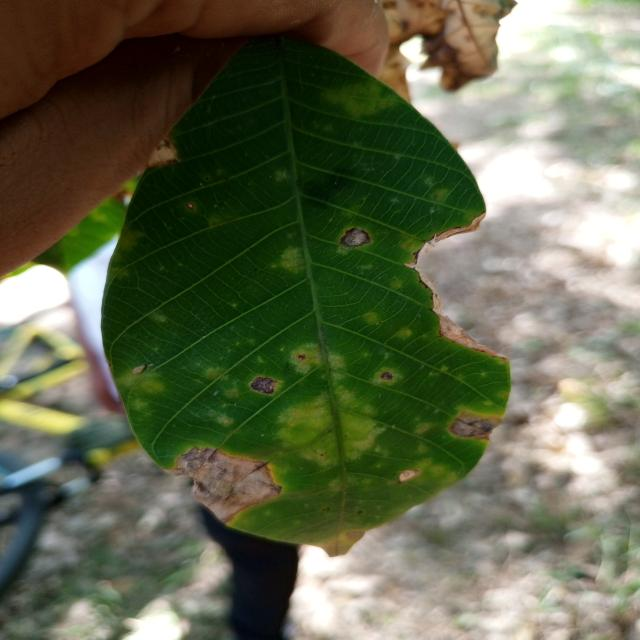Colletotrichum: (339, 227, 372, 248), (380, 371, 394, 381), (186, 202, 197, 210)
Leaf-Blight: (164, 446, 283, 524), (431, 308, 505, 358), (448, 413, 502, 439), (144, 136, 180, 168), (398, 469, 419, 482)
